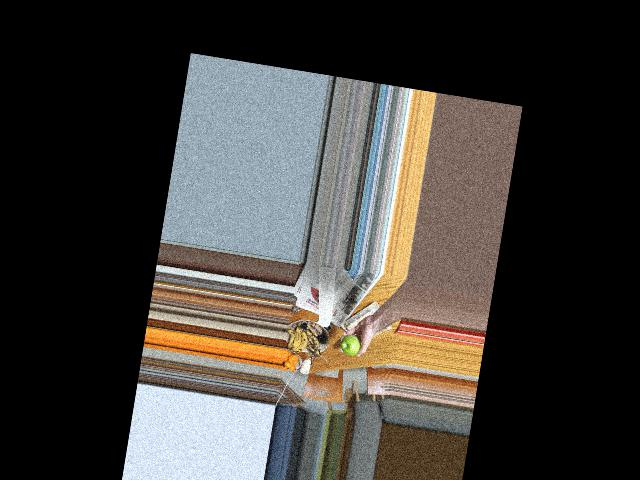apple: (340, 332, 361, 357)
